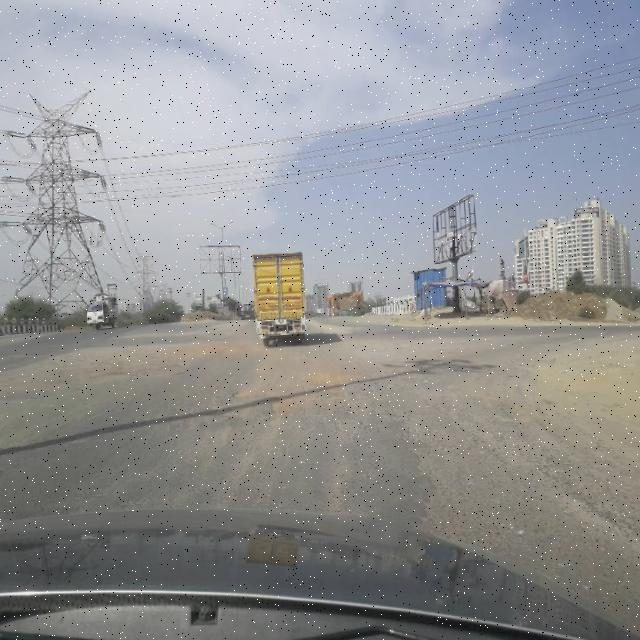D40: (217, 357, 404, 442), (9, 341, 217, 386)
